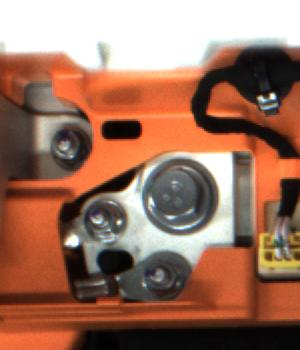nut_b: (145, 155, 223, 236)
screw_s: (47, 127, 97, 165), (84, 200, 125, 237), (143, 259, 182, 296)
